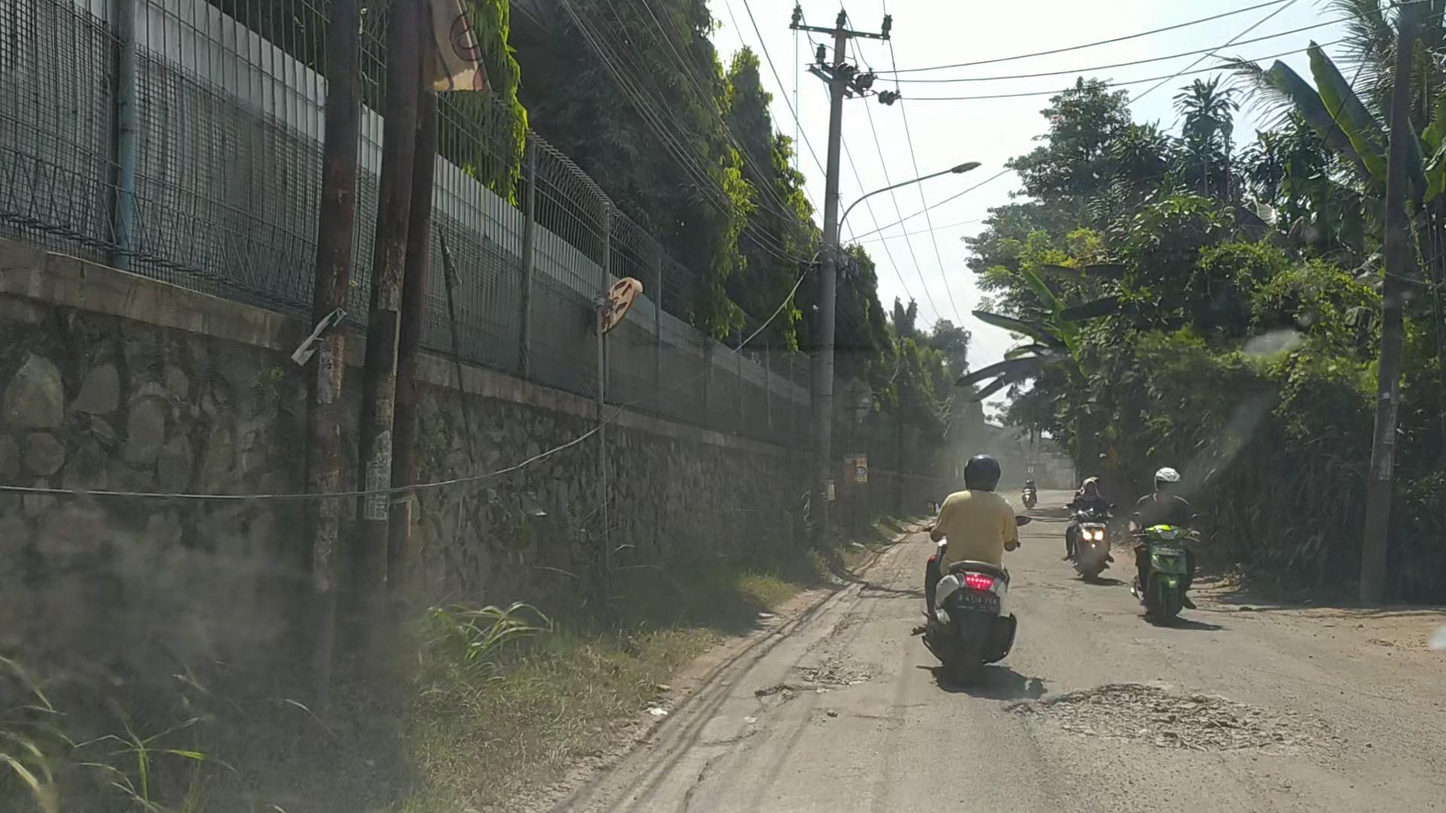pothole: (1006, 682, 1268, 755), (755, 649, 876, 710)
